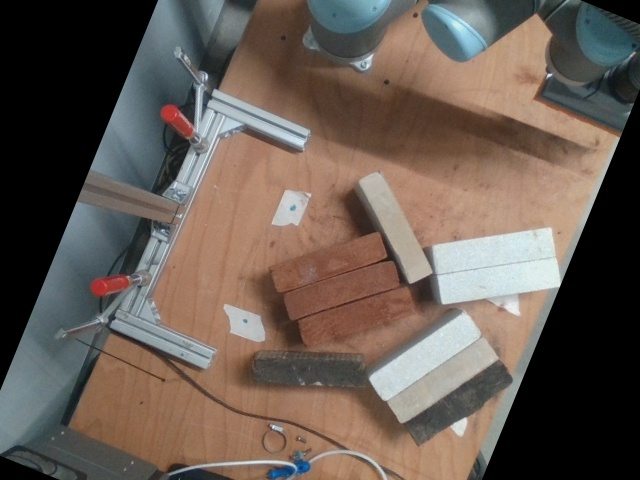brick-side: (370, 316, 478, 400), (388, 339, 496, 422), (406, 362, 513, 445), (361, 170, 431, 281), (272, 235, 384, 291), (300, 288, 411, 344), (284, 262, 395, 317), (436, 229, 553, 271), (441, 259, 557, 301), (254, 364, 364, 386)
